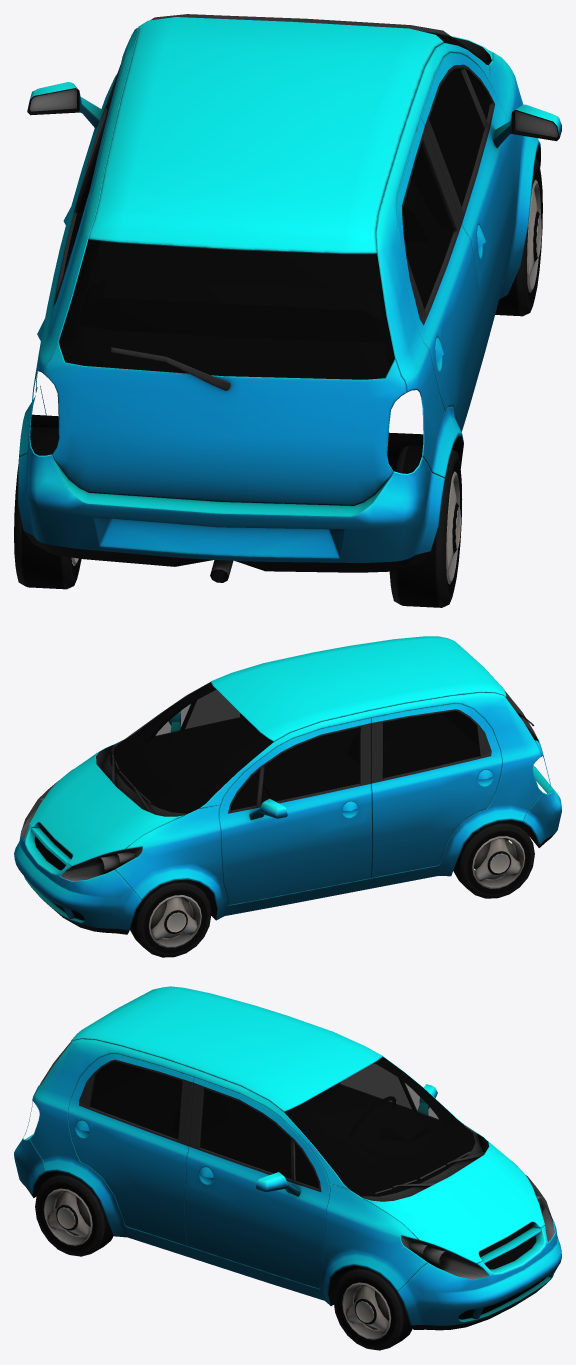
File: Car1.glb
The picture shows the model from 3 angles, top to bottom: view 1: azimuth 30°, elevation 25°; view 2: azimuth 150°, elevation 25°; view 3: azimuth 270°, elevation 25°; orthographic projection. The views are drawn at different scales.
Visible parts, largest first — view 1: Wheel_C001_Wheel_0; view 2: Wheel_C001_Wheel_0; view 3: Wheel_C001_Wheel_0.
Part boxes in pixels (left/top/right/bottom): Wheel_C001_Wheel_0: left=14, top=14, right=561, bottom=607; Wheel_C001_Wheel_0: left=14, top=636, right=561, bottom=957; Wheel_C001_Wheel_0: left=14, top=986, right=561, bottom=1350.
Size of the model in its own units: 2.65 by 1.32 by 3.07.
3 materials, 2 textured.
